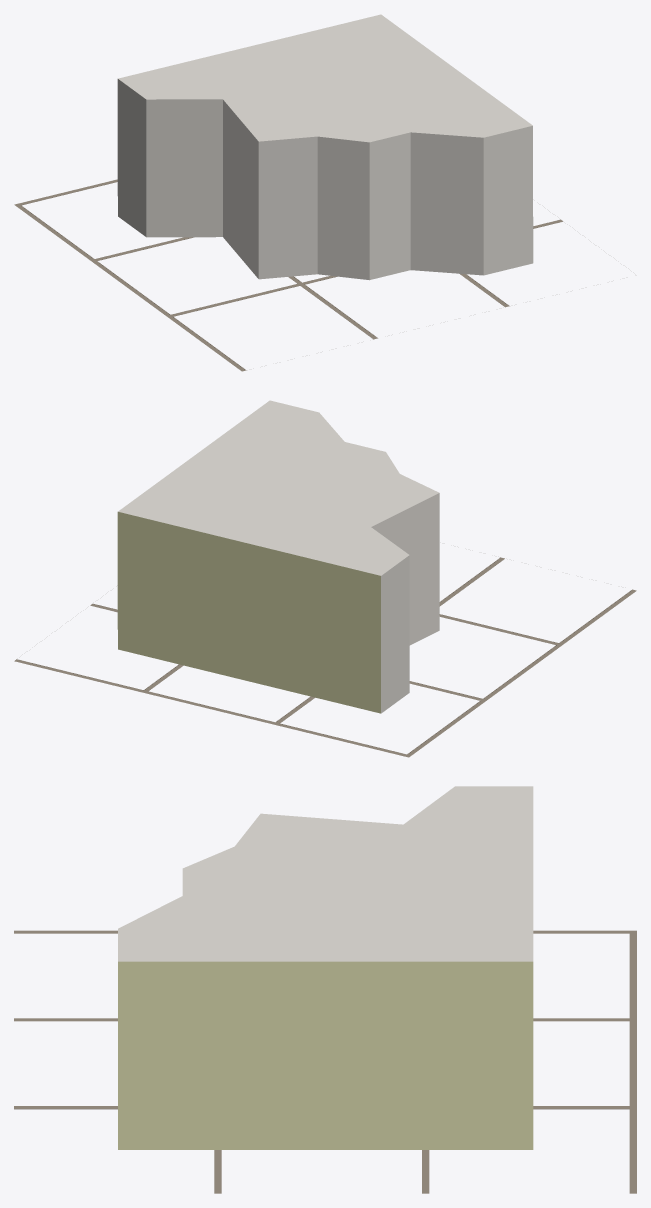
The model's file is Cracked_Curve_Outer_3x3_2_Mid.glb.
3 renders of one model, top to bottom at view 1: azimuth 30°, elevation 25°; view 2: azimuth 150°, elevation 25°; view 3: azimuth 270°, elevation 25°, orthographic. The views are drawn at different scales.
Parts seen in each view (by area): view 1: Cracked_Curve_Outer_3x3_2_Mid, Floor; view 2: Cracked_Curve_Outer_3x3_2_Mid, Floor; view 3: Cracked_Curve_Outer_3x3_2_Mid, Floor.
Boxes of the visible parts, left/top/right/bottom form: Cracked_Curve_Outer_3x3_2_Mid: left=117, top=14, right=533, bottom=280; Floor: left=14, top=179, right=563, bottom=371; Cracked_Curve_Outer_3x3_2_Mid: left=117, top=400, right=439, bottom=713; Floor: left=14, top=557, right=636, bottom=757; Cracked_Curve_Outer_3x3_2_Mid: left=118, top=786, right=533, bottom=1149; Floor: left=14, top=930, right=636, bottom=1193.
Bounding box in the file's own units: 300 × 100 × 300.
Materials: 3 (1 with a texture image).
